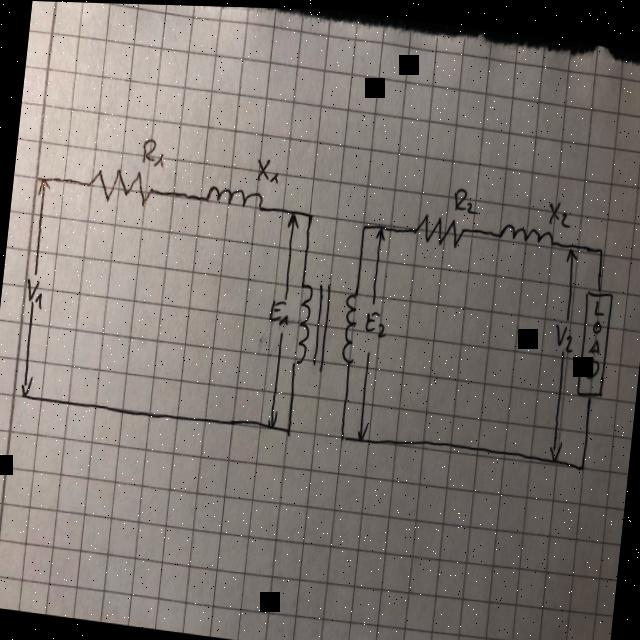inductor: (204, 179, 268, 213), (496, 215, 556, 246)
junction: (301, 205, 315, 226), (357, 213, 371, 234), (336, 426, 350, 447), (280, 416, 294, 437), (593, 236, 607, 257), (574, 451, 588, 472)
resistor: (571, 278, 615, 398), (86, 158, 154, 213), (412, 207, 464, 249)
terminal: (33, 168, 51, 189), (14, 387, 34, 405)
text: (582, 293, 608, 378), (450, 180, 481, 218), (139, 132, 167, 168), (362, 302, 389, 339), (254, 150, 282, 185), (545, 192, 572, 228), (548, 317, 575, 353), (22, 274, 48, 310), (266, 293, 292, 324)
transformer: (286, 269, 364, 375)
